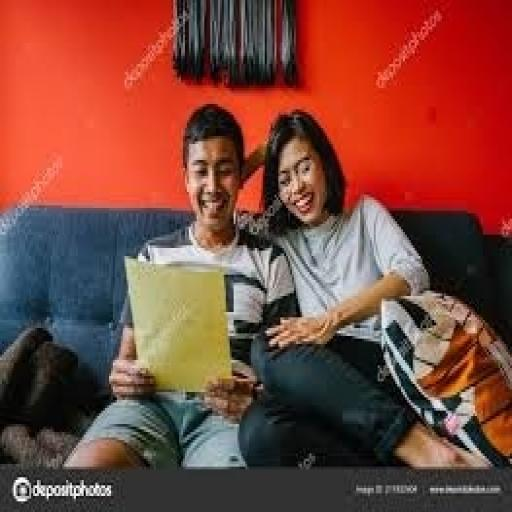sitting: (238, 107, 492, 472), (60, 102, 298, 470)
